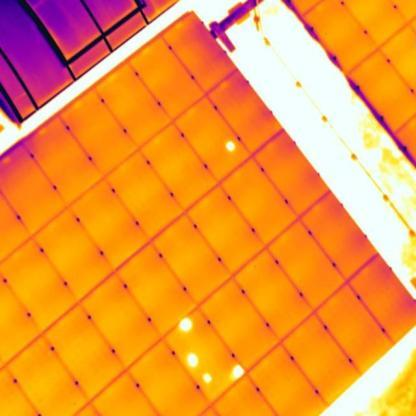anomaly: (227, 362, 247, 384), (176, 314, 196, 334), (185, 349, 201, 371), (224, 137, 238, 155), (201, 371, 213, 385)
